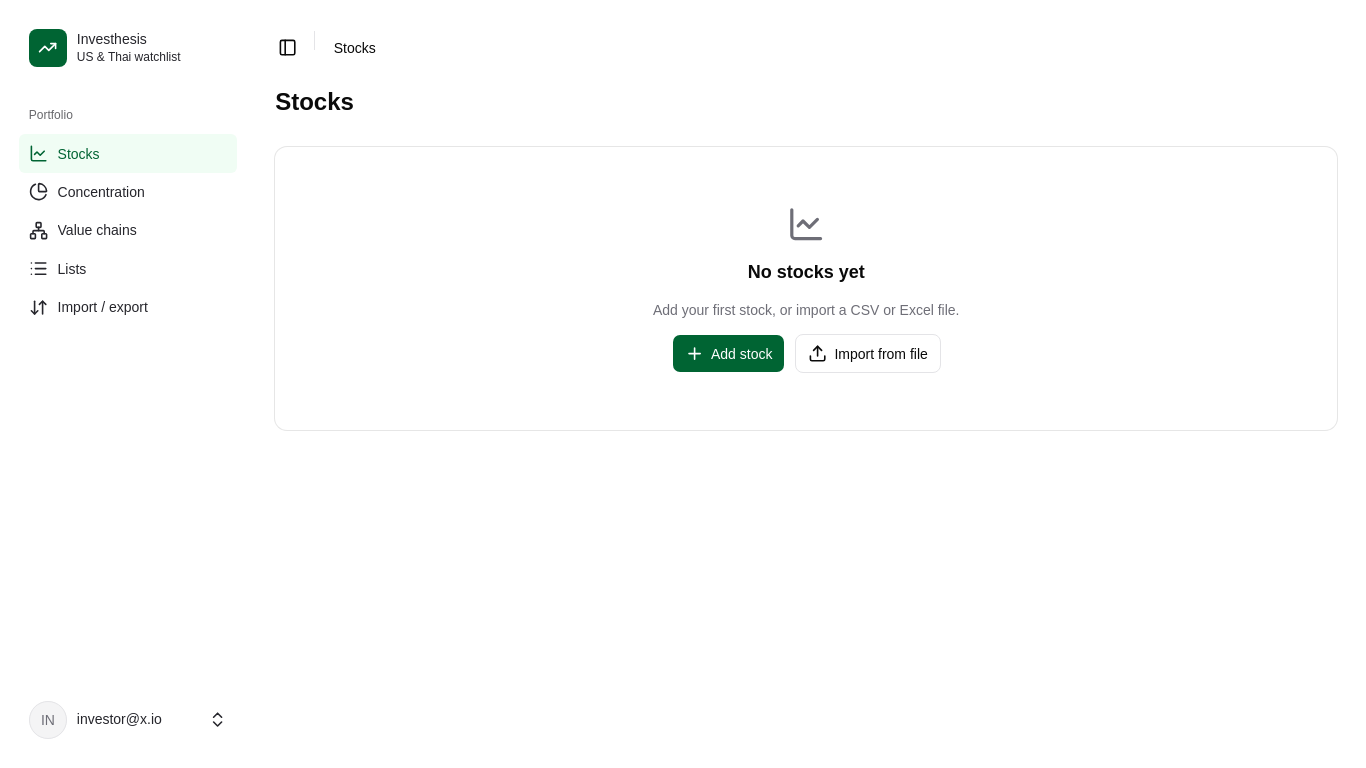
Test: account page › the menu Account item opens /account
This screenshot has width=1366, height=768.
Click the button with aria-label "Account menu" at point(128, 720), box x1=19 y1=691 x2=237 y2=749
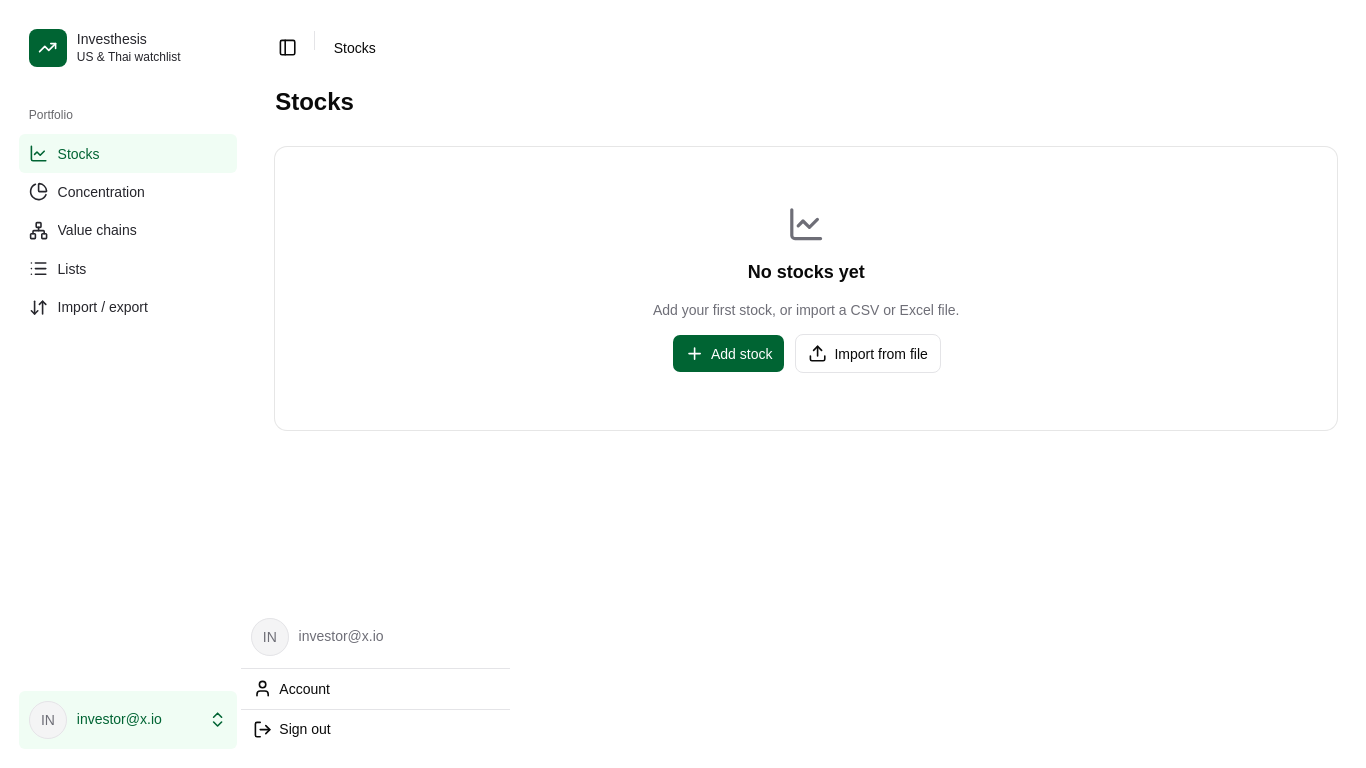
Click the menu item "Account" at point(292, 689), box x1=253 y1=679 x2=330 y2=699
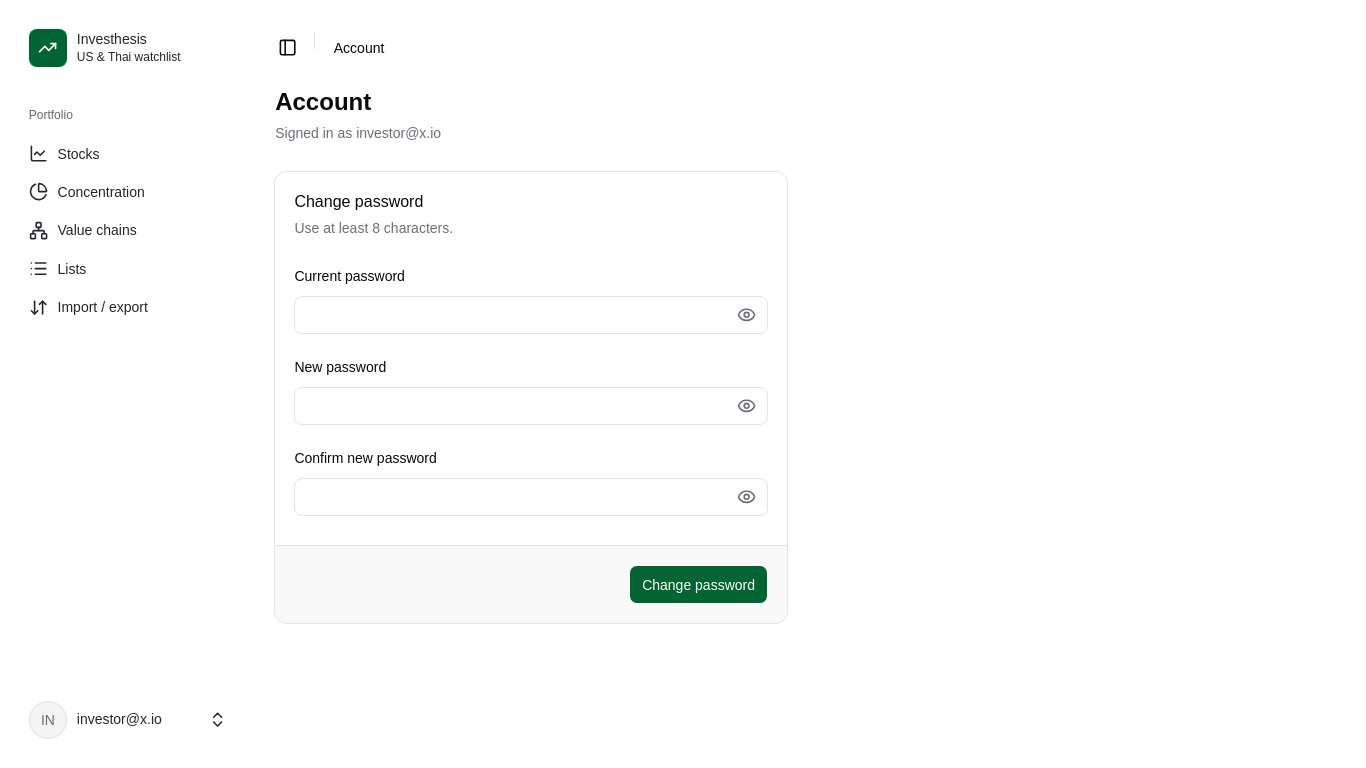
expect the heading "Account" is shown: met, box x1=275 y1=88 x2=371 y2=115
